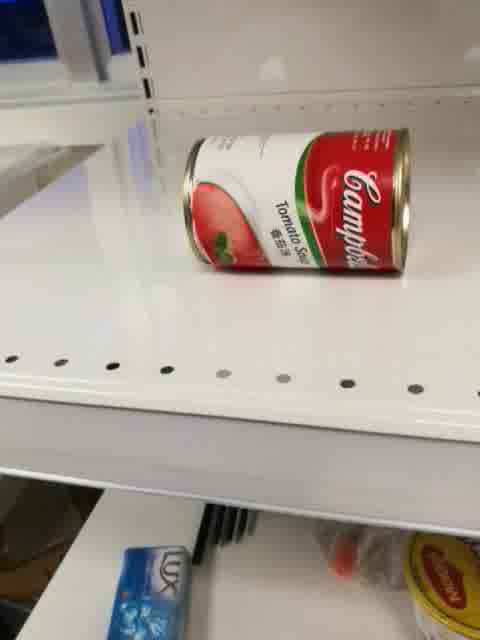tomatosoup: (181, 128, 410, 279)
